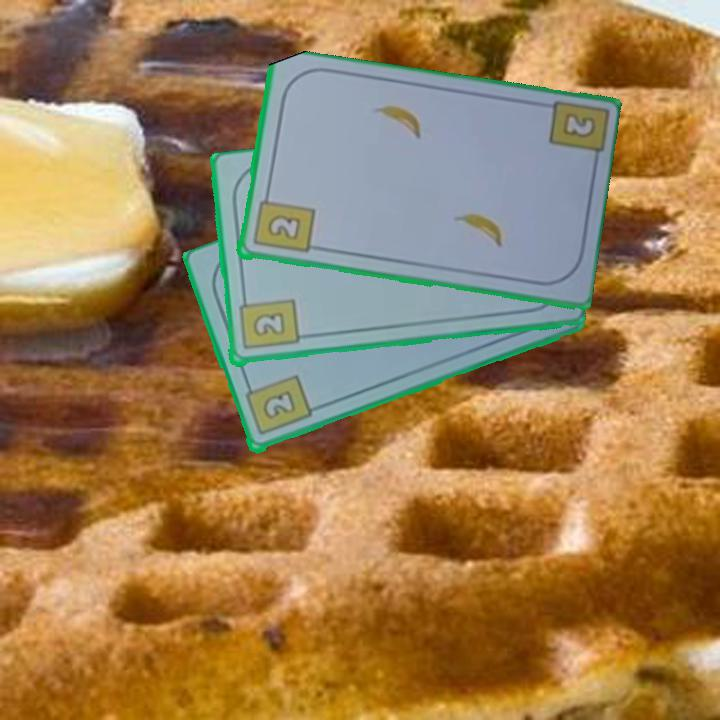2b: (241, 372, 314, 439), (249, 188, 316, 256), (235, 291, 301, 353), (562, 112, 595, 139)
